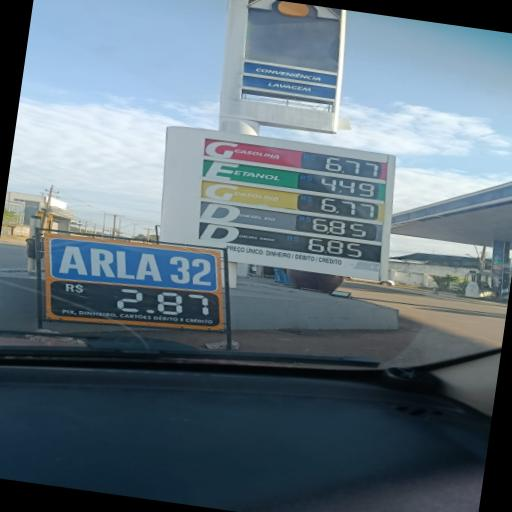ETANOL: (201, 157, 289, 188)
GASOLINA AD: (200, 180, 288, 209)
GASOLINA C: (202, 133, 288, 165)
S10: (198, 201, 291, 228)
S500: (196, 219, 283, 251)
placa: (163, 124, 397, 284)
preco: (314, 169, 379, 203), (299, 235, 366, 261), (314, 197, 379, 222), (317, 155, 381, 180), (311, 216, 374, 240)
